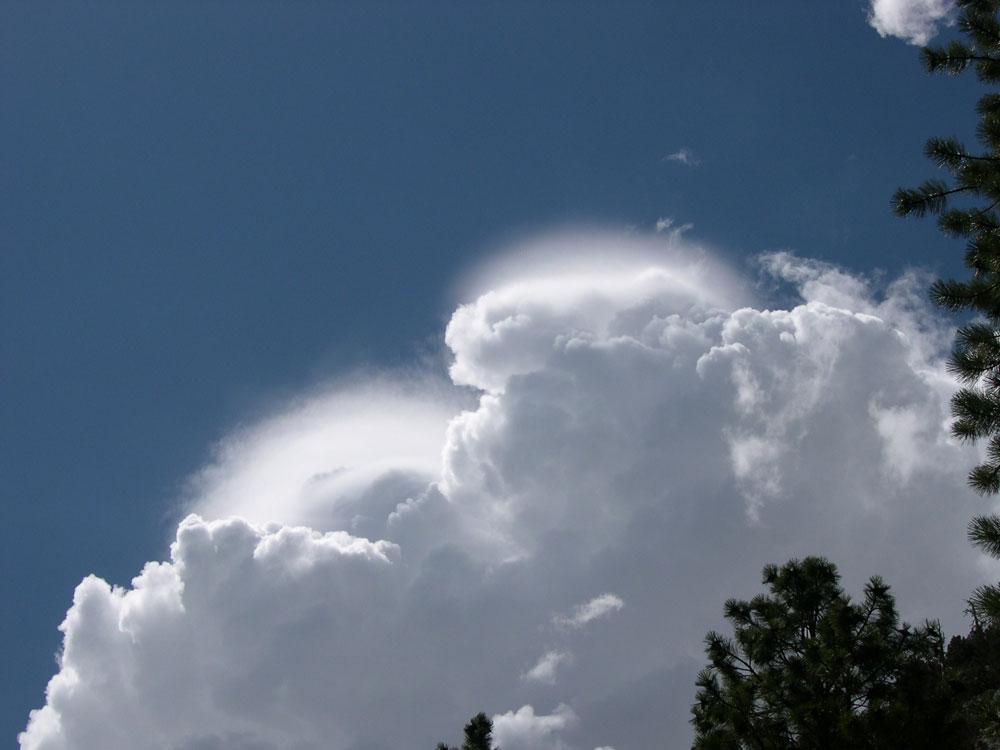Cumulus: (457, 229, 984, 689), (33, 463, 552, 750)
